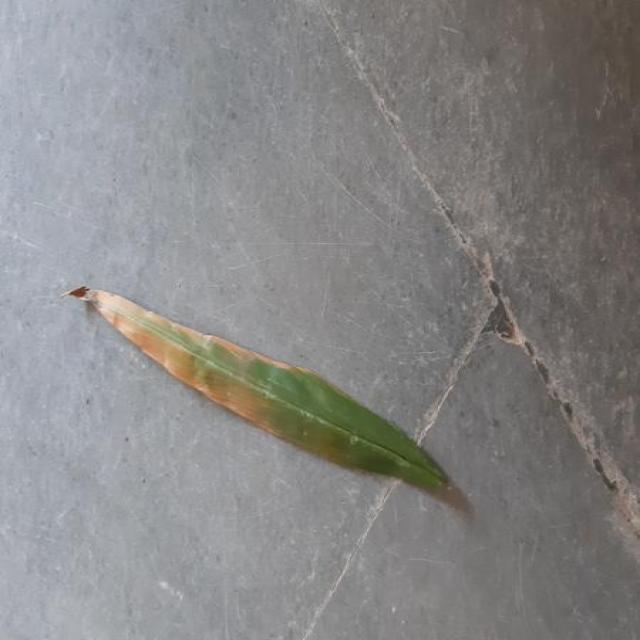bacterial wilt: (97, 292, 308, 448)
ginger: (65, 286, 470, 512)
